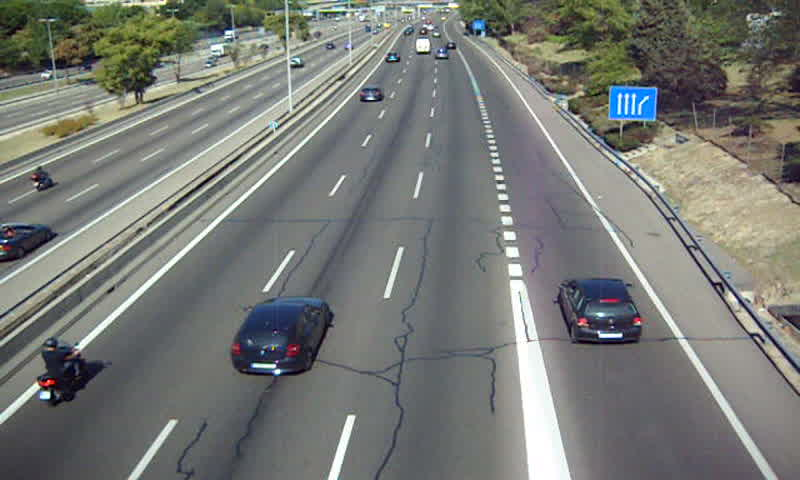car: (231, 299, 327, 375), (559, 277, 641, 343), (359, 86, 384, 103)
motorcycle: (36, 336, 85, 406)
